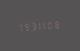eight: (53, 19, 58, 29)
nine: (23, 21, 28, 31)
one: (17, 21, 22, 32), (41, 19, 46, 30), (35, 20, 40, 30)
three: (29, 20, 34, 31)
zero: (47, 19, 52, 30)
